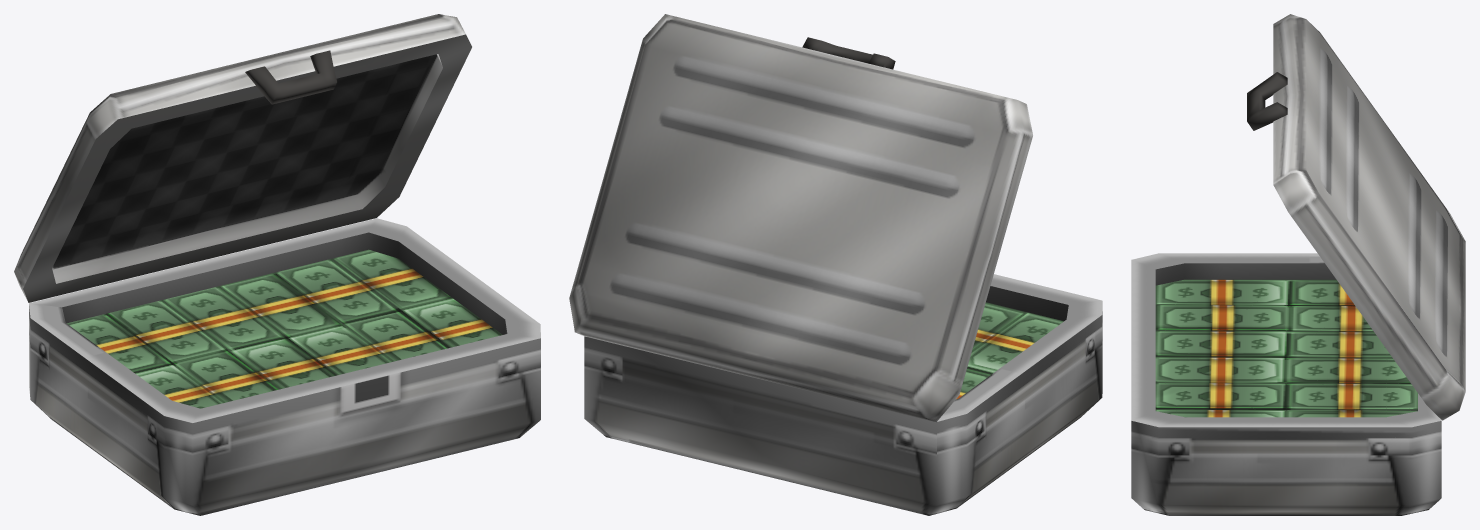
File: Briefcase.fbx
The picture shows the model from 3 angles, left to right: view 1: azimuth 30°, elevation 25°; view 2: azimuth 150°, elevation 25°; view 3: azimuth 270°, elevation 25°; orthographic projection. The views are drawn at different scales.
Parts seen in each view (by area): view 1: polySurface19; view 2: polySurface19; view 3: polySurface19.
Boxes of the visible parts, x1,y1,x2,y2 form: polySurface19: (14,14,540,515); polySurface19: (569,14,1102,515); polySurface19: (1131,14,1465,515).
Bounding box in the file's own units: 47.31 × 43.91 × 38.4.
